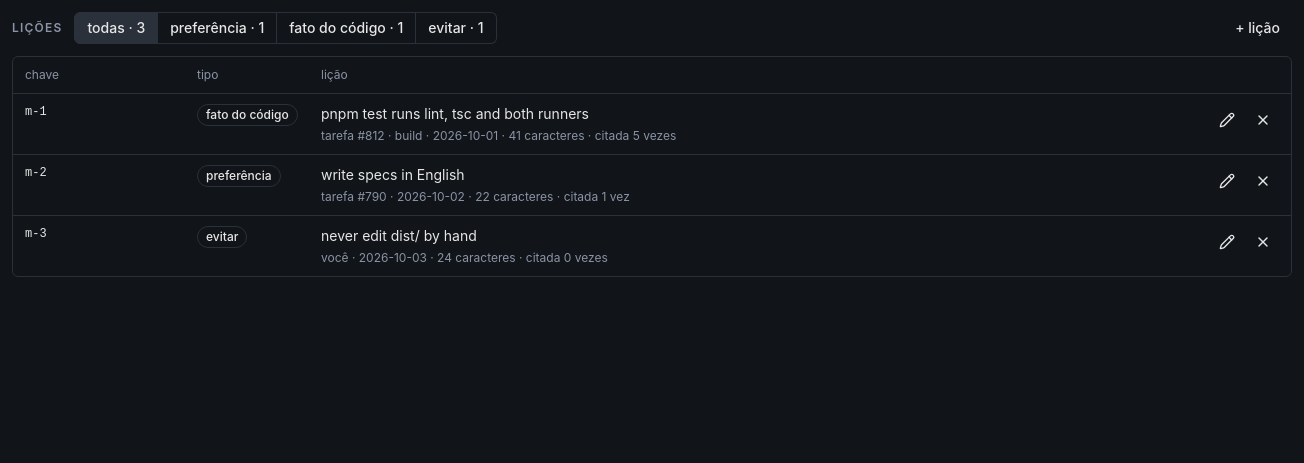
Test case: + lesson brings the filter back to all and adds an editing row at the end, with no id yet; saved, it becomes a lesson (#797)
The image size is (1304, 463).
Click the radio button labelled "preferência · 1" at (218, 28), box [158,12,277,44]
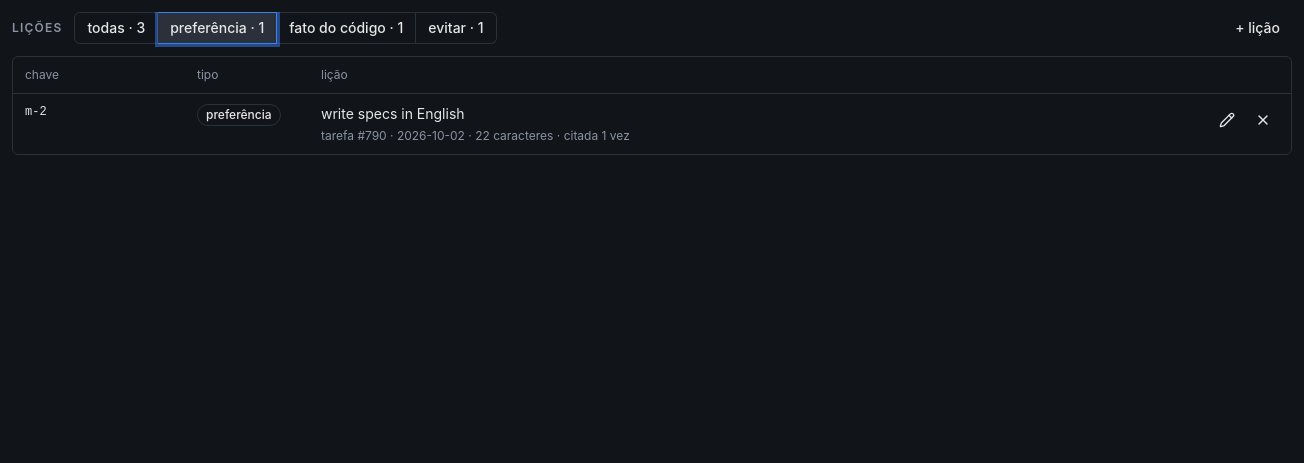
Click the button "+ lição" at (1258, 28), box [1223,12,1292,44]
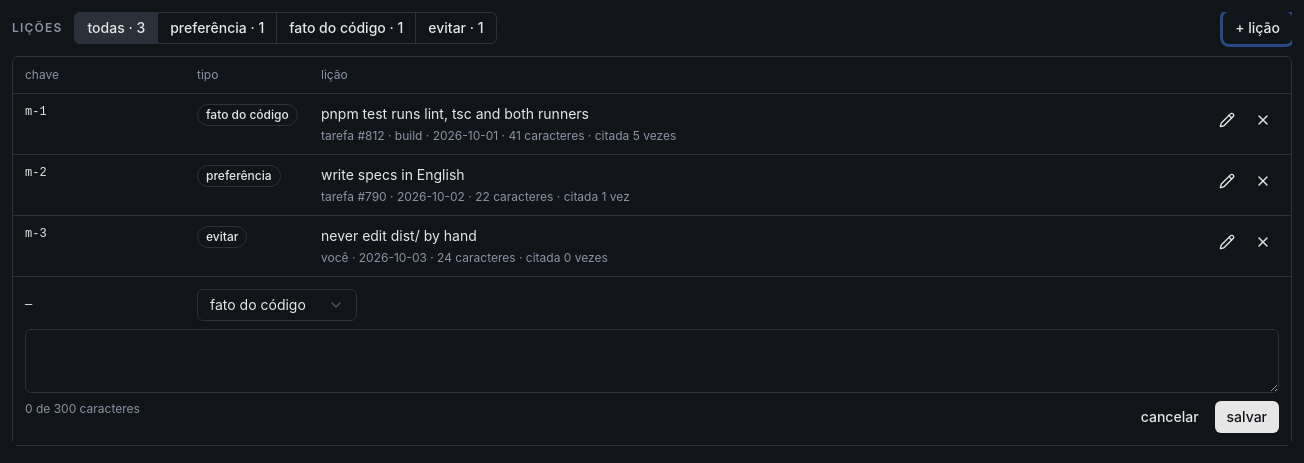
Expected: the text "—" is shown, [25,298,32,312]
Result: the radio button labelled "todas · 3" has attribute data-state="on" at [74,12,158,44]
Type "never push to main" into the text box named "texto da lição" at (652, 361), box [25,329,1279,393]
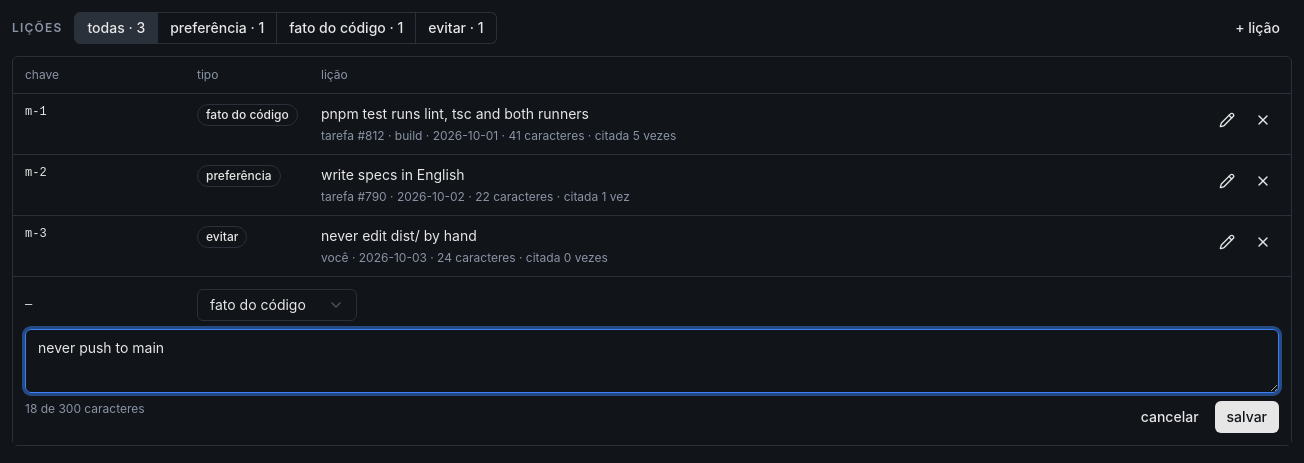
Click the button "salvar" at (1247, 417), box [1215,401,1279,433]
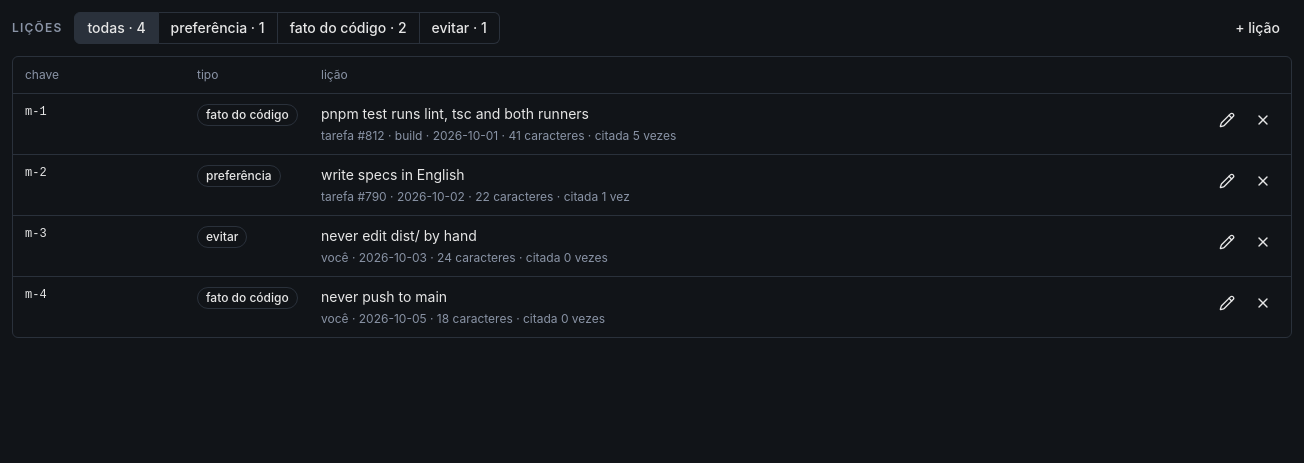
Result: the text "never push to main" is shown at [321,288,447,305]
